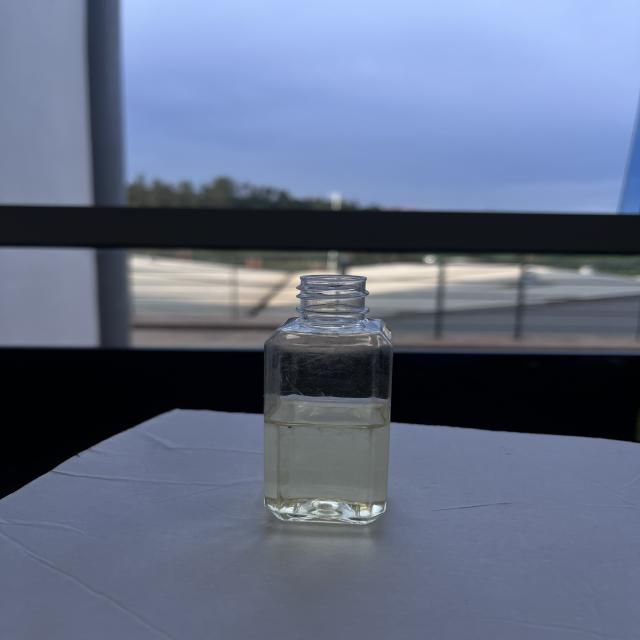oil: (267, 392, 390, 528)
